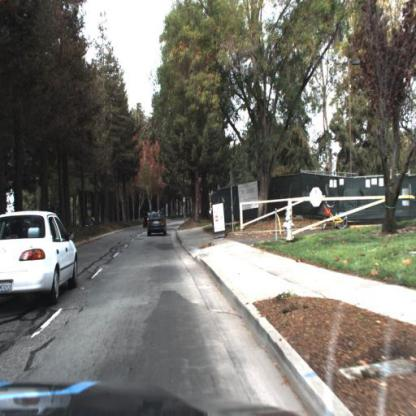car: (1, 208, 78, 305), (148, 211, 167, 237), (83, 217, 95, 227)
